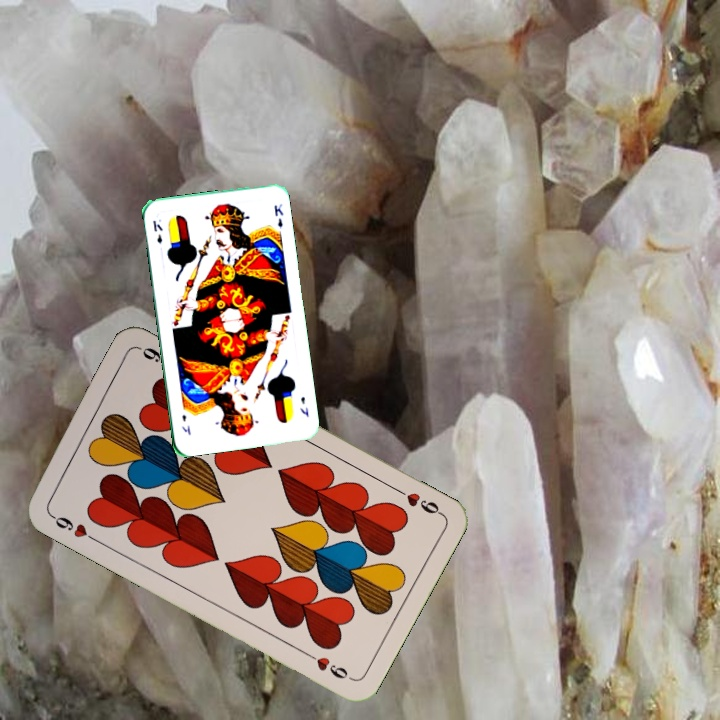EK: (149, 216, 165, 246), (296, 392, 311, 419)
H9: (390, 483, 445, 518), (45, 510, 100, 545)
